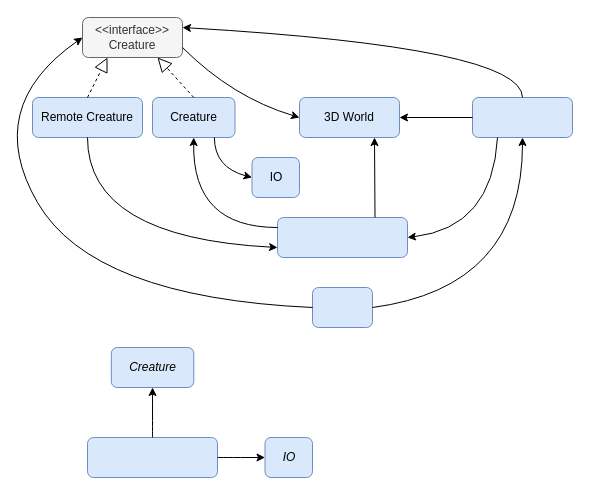
Some shapes in this 591 by 495 pixel diagram are drawn without their labels. Here are the shapes that lost their labels. From the top down, the centre of each, then its label:
At (522,117): "Game Master".
At (342,237): "Online Synchronizer".
At (342,307): "UI".
At (152,457): "Creature Coordinator".
